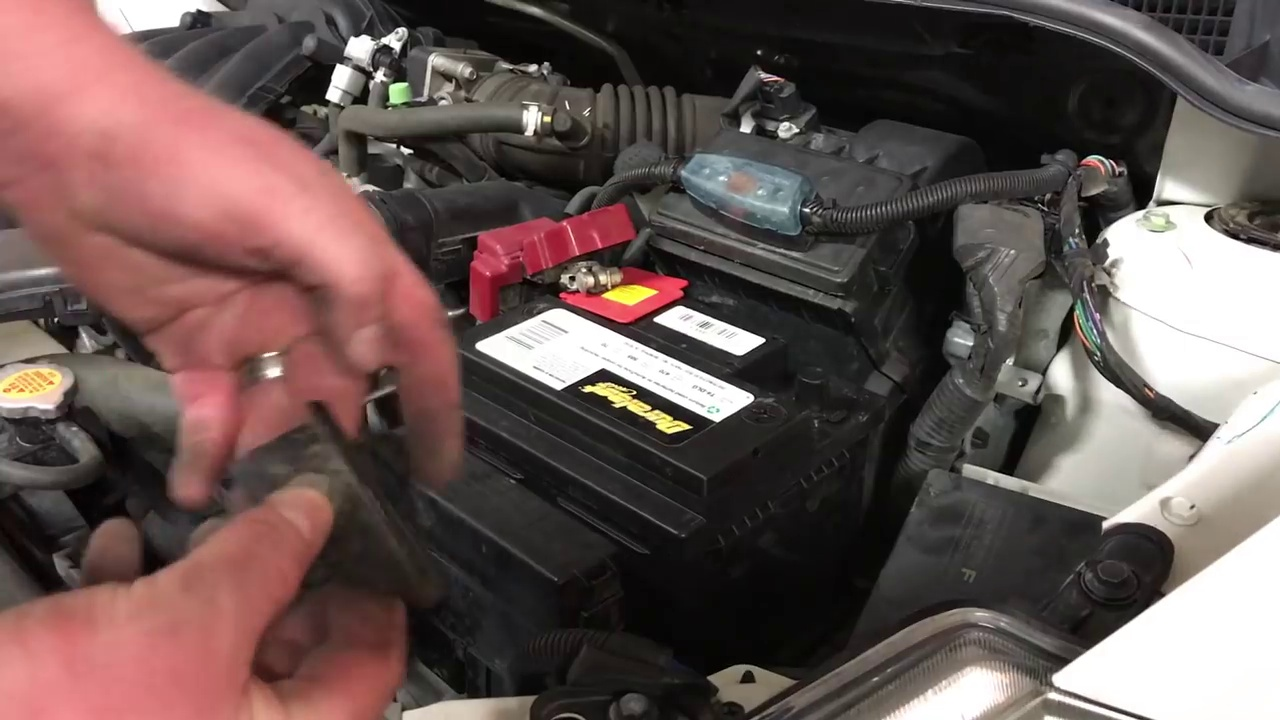battery: (453, 244, 849, 498)
pos_connected: (460, 207, 677, 332)
